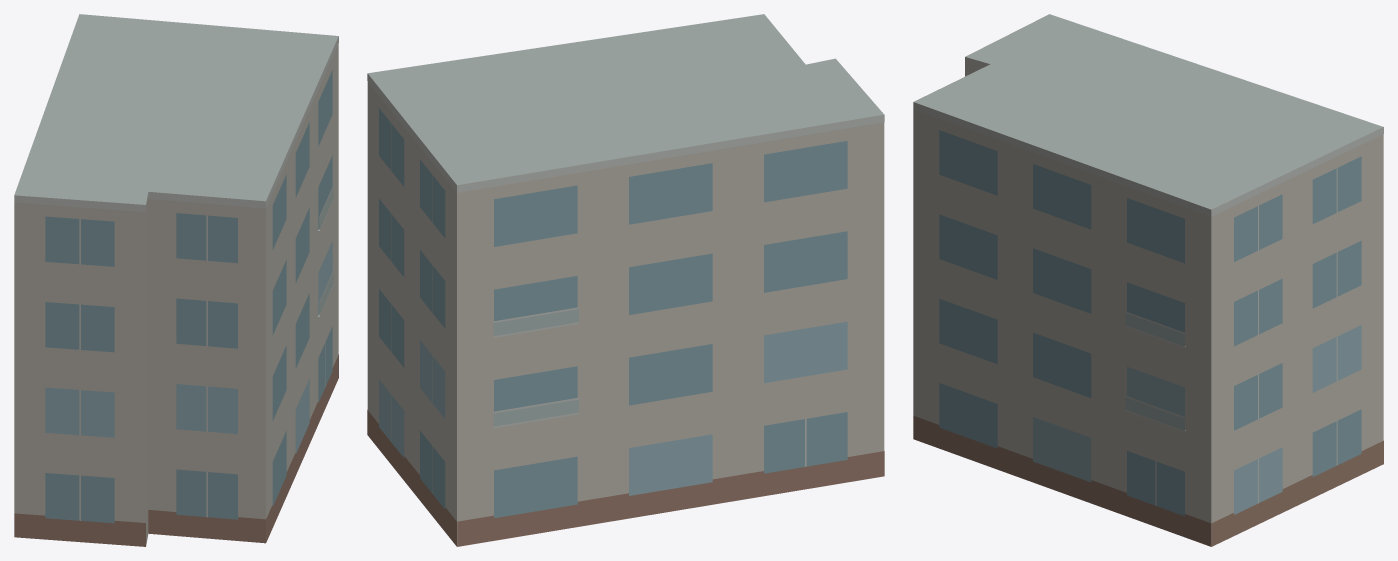
File: survey-upis-32622101.glb
3 renders of one model, left to right at view 1: azimuth 30°, elevation 25°; view 2: azimuth 150°, elevation 25°; view 3: azimuth 270°, elevation 25°, orthographic. The views are drawn at different scales.
Parts seen in each view (by area): view 1: survey-upis-32622101.tmp; view 2: survey-upis-32622101.tmp; view 3: survey-upis-32622101.tmp.
Part boxes in pixels (<box>): survey-upis-32622101.tmp: <box>14,14,338,546</box>; survey-upis-32622101.tmp: <box>367,14,884,546</box>; survey-upis-32622101.tmp: <box>913,14,1383,546</box>.
Size of the model in its own units: 14.57 by 11.7 by 14.8.
